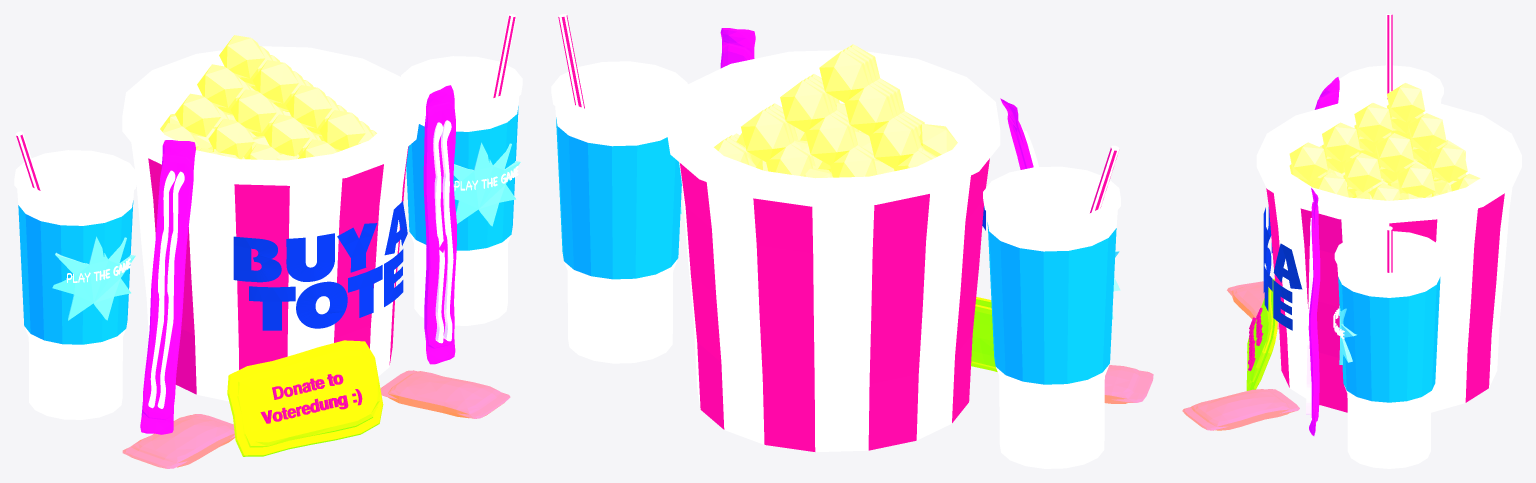
Rendered from SnackSection.gltf.
3 views of the same model, side by side, from view 1: azimuth 30°, elevation 25°; view 2: azimuth 150°, elevation 25°; view 3: azimuth 270°, elevation 25° (orthographic). The views are drawn at different scales.
Parts seen in each view (by area): view 1: Bucket-UniformWhite, popcorn2, NewCup1-UniformWhite, Bucket-RedShadow3, Donate-NeonGreen, NewCup2-UniformWhite, BuyATote, NewCup1-Blue, Purple1, NewCup2-Blue, Purple2, Pink2 (+8 smaller); view 2: Bucket-UniformWhite, Bucket-RedShadow3, NewCup1-UniformWhite, popcorn2, NewCup2-UniformWhite, NewCup1-Blue, NewCup2-Blue, Pink1, Donate-NeonGreen, Purple2, Purple1; view 3: Bucket-UniformWhite, popcorn2, NewCup2-UniformWhite, Bucket-RedShadow3, NewCup2-Blue, Pink2, NewCup1-UniformWhite, BuyATote, Purple2, Donate-NeonGreen, Pink1, Extrude3 (+5 smaller).
Boxes of the visible parts, <box> form: Bucket-UniformWhite: <box>122,46,420,401</box>; popcorn2: <box>160,35,376,160</box>; NewCup1-UniformWhite: <box>14,150,137,419</box>; Bucket-RedShadow3: <box>148,146,408,394</box>; Donate-NeonGreen: <box>227,340,383,456</box>; NewCup2-UniformWhite: <box>401,56,522,325</box>; BuyATote: <box>233,201,407,330</box>; NewCup1-Blue: <box>18,200,133,344</box>; Purple1: <box>140,140,195,434</box>; NewCup2-Blue: <box>406,106,518,250</box>; Purple2: <box>423,85,456,364</box>; Pink2: <box>380,370,510,418</box>; Bucket-UniformWhite: <box>666,50,1000,452</box>; Bucket-RedShadow3: <box>680,158,989,451</box>; NewCup1-UniformWhite: <box>983,166,1120,468</box>; popcorn2: <box>714,44,957,178</box>; NewCup2-UniformWhite: <box>551,61,687,363</box>; NewCup1-Blue: <box>987,222,1116,384</box>; NewCup2-Blue: <box>556,117,681,279</box>; Pink1: <box>1104,365,1153,403</box>; Donate-NeonGreen: <box>971,297,997,371</box>; Purple2: <box>720,28,755,68</box>; Purple1: <box>1000,98,1033,169</box>; Bucket-UniformWhite: <box>1256,99,1521,412</box>; popcorn2: <box>1289,83,1480,200</box>; NewCup2-UniformWhite: <box>1334,231,1443,468</box>; Bucket-RedShadow3: <box>1266,188,1504,412</box>; NewCup2-Blue: <box>1338,277,1440,402</box>; Pink2: <box>1182,389,1299,430</box>; NewCup1-UniformWhite: <box>1338,65,1443,103</box>; BuyATote: <box>1263,207,1302,330</box>; Purple2: <box>1308,188,1320,435</box>; Donate-NeonGreen: <box>1246,278,1277,390</box>; Pink1: <box>1227,281,1279,329</box>; Extrude3: <box>1306,221,1313,414</box>.
Size of the model in its own units: 78.71 by 51.01 by 52.56.
